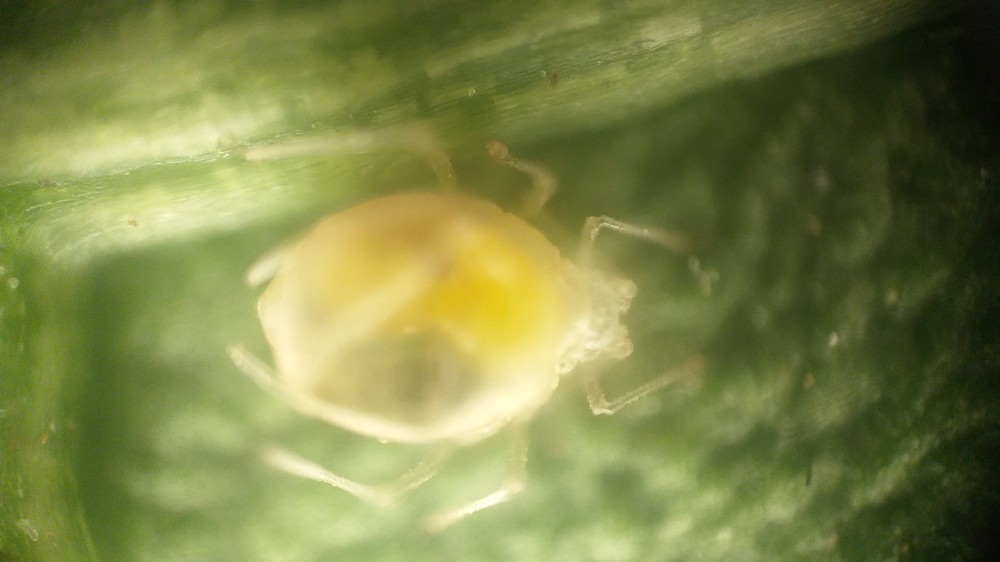Pulgon: (203, 113, 729, 534)
